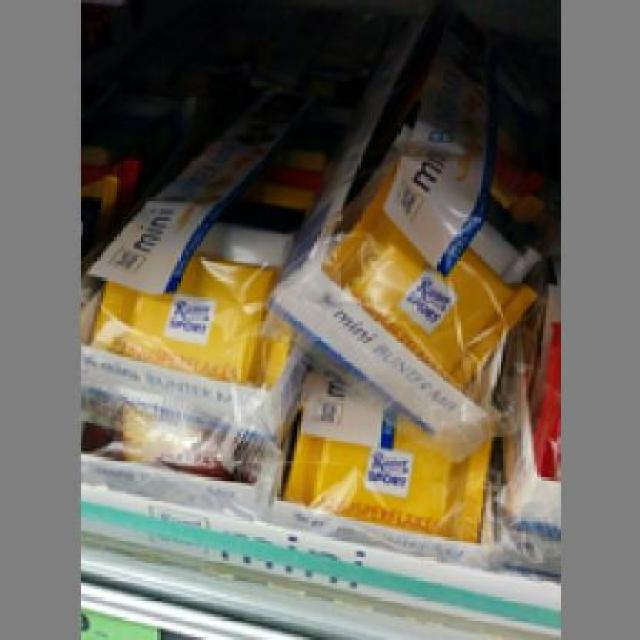Chocolate: (77, 119, 317, 415), (319, 62, 532, 392)
